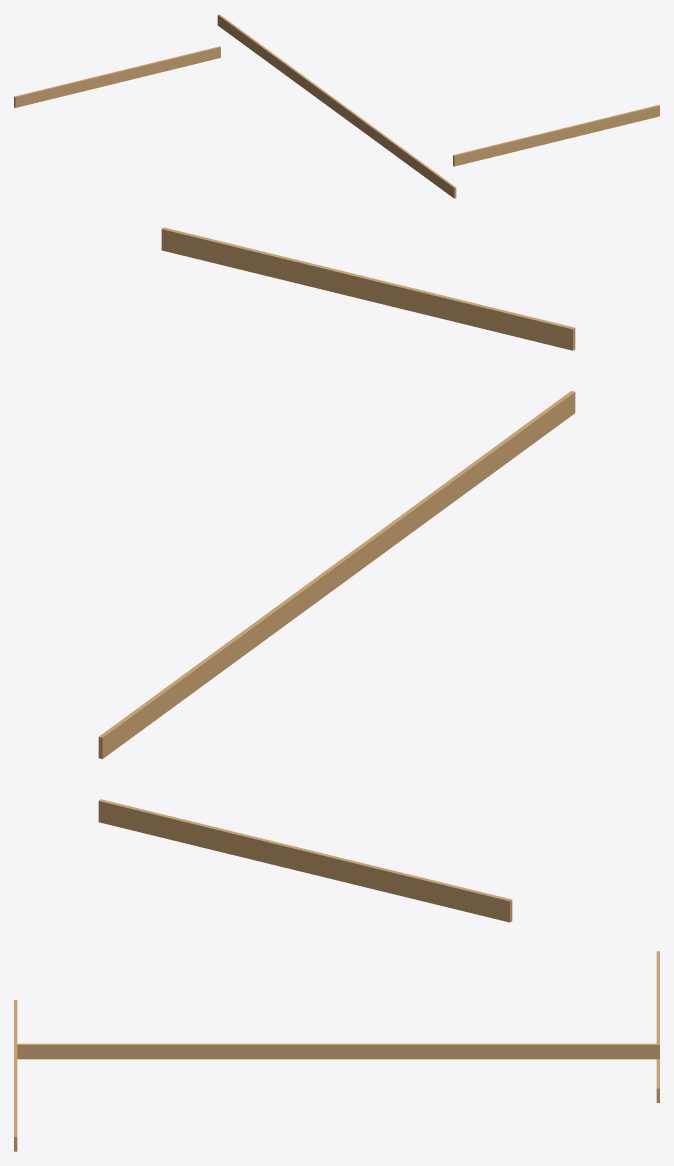
File: board.glb
3 renders of one model, top to bottom at view 1: azimuth 30°, elevation 25°; view 2: azimuth 150°, elevation 25°; view 3: azimuth 270°, elevation 25°, orthographic. The views are drawn at different scales.
Parts seen in each view (by area): view 1: Unified_Net_1_Island_2, Unified_Net_1_Island_4, Unified_Net_1_Island_3; view 2: Unified_Net_1_Island_2, Unified_Net_1_Island_4, Unified_Net_1_Island_3; view 3: Unified_Net_1_Island_2, Unified_Net_1_Island_4, Unified_Net_1_Island_3.
Boxes of the visible parts, left/top/right/bottom form: Unified_Net_1_Island_2: left=217, top=14, right=456, bottom=198; Unified_Net_1_Island_4: left=453, top=105, right=659, bottom=166; Unified_Net_1_Island_3: left=14, top=46, right=220, bottom=107; Unified_Net_1_Island_2: left=98, top=391, right=575, bottom=758; Unified_Net_1_Island_4: left=161, top=227, right=575, bottom=350; Unified_Net_1_Island_3: left=98, top=799, right=512, bottom=922; Unified_Net_1_Island_2: left=17, top=1043, right=659, bottom=1059; Unified_Net_1_Island_4: left=14, top=1000, right=17, bottom=1151; Unified_Net_1_Island_3: left=656, top=951, right=659, bottom=1102.
Size of what is drawn, in the model's own units: 2.01e-05 by 3.5e-06 by 2.01e-05.
